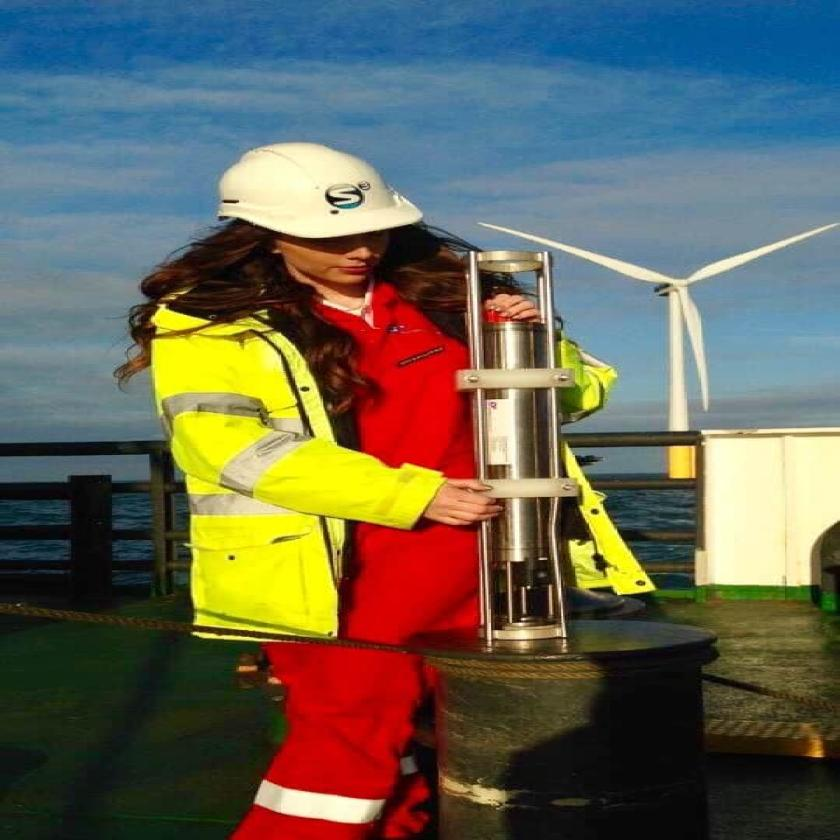Con_casco: (215, 135, 451, 305)
